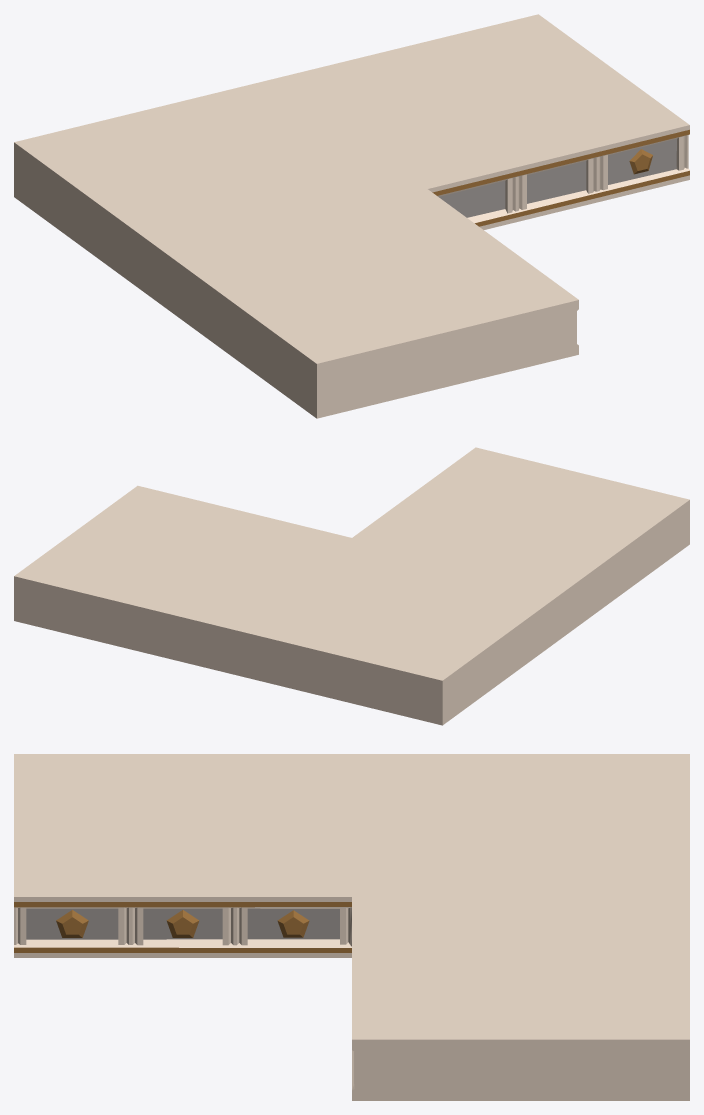
File: empire-architrave-corner-r-empire.glb
3 views of the same model, one above another, from view 1: azimuth 30°, elevation 25°; view 2: azimuth 150°, elevation 25°; view 3: azimuth 270°, elevation 25° (orthographic). The views are drawn at different scales.
Parts seen in each view (by area): view 1: SM_Architrave_Corner_R_Empire; view 2: SM_Architrave_Corner_R_Empire; view 3: SM_Architrave_Corner_R_Empire.
Boxes of the visible parts, <box> form: SM_Architrave_Corner_R_Empire: <box>14,14,689,418</box>; SM_Architrave_Corner_R_Empire: <box>14,447,689,725</box>; SM_Architrave_Corner_R_Empire: <box>14,754,689,1100</box>.
Bounding box in the file's own units: 6 × 0.5997 × 6.
